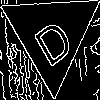D: (27, 10, 77, 69)
